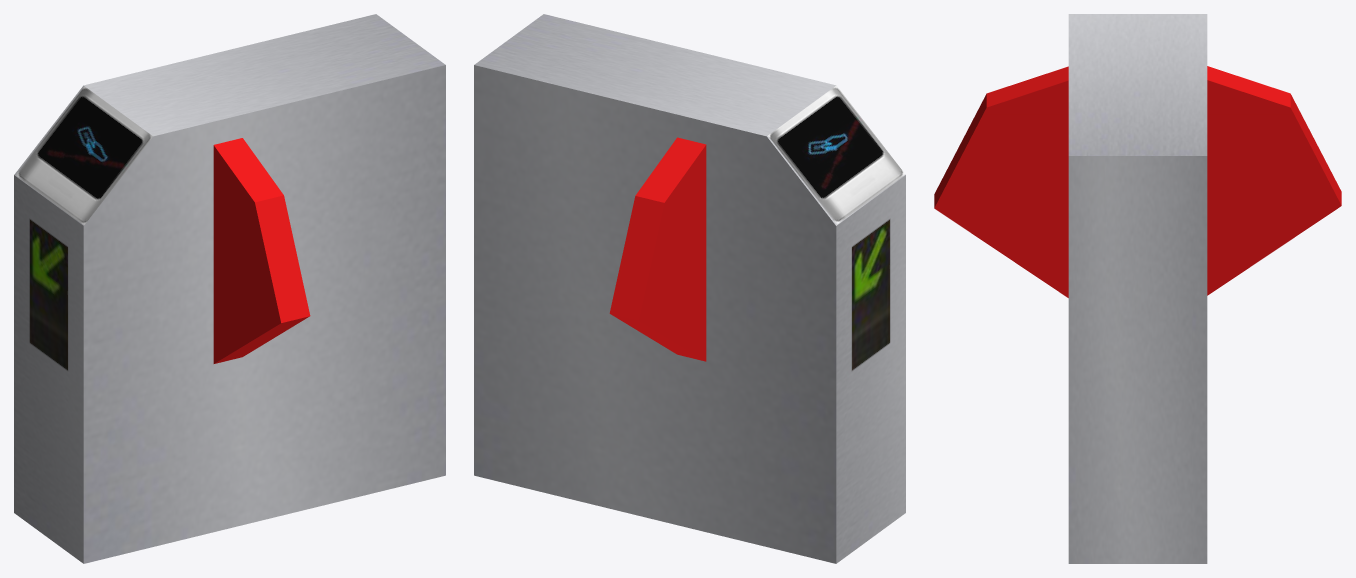
Rendered from 检票闸机.obj.
3 renders of one model, left to right at view 1: azimuth 30°, elevation 25°; view 2: azimuth 150°, elevation 25°; view 3: azimuth 270°, elevation 25°, orthographic.
Parts seen in each view (by area): view 1: Box018, Cylinder012; view 2: Box018, Cylinder012; view 3: Box018, Cylinder012.
Part boxes in pixels (x1,y1,x2,y2): Box018: (14,14,445,563); Cylinder012: (213,138,310,363); Box018: (474,14,905,563); Cylinder012: (609,137,706,361); Box018: (1068,14,1207,563); Cylinder012: (934,66,1341,297).
Bounding box in the file's own units: 120 × 130 × 118.
